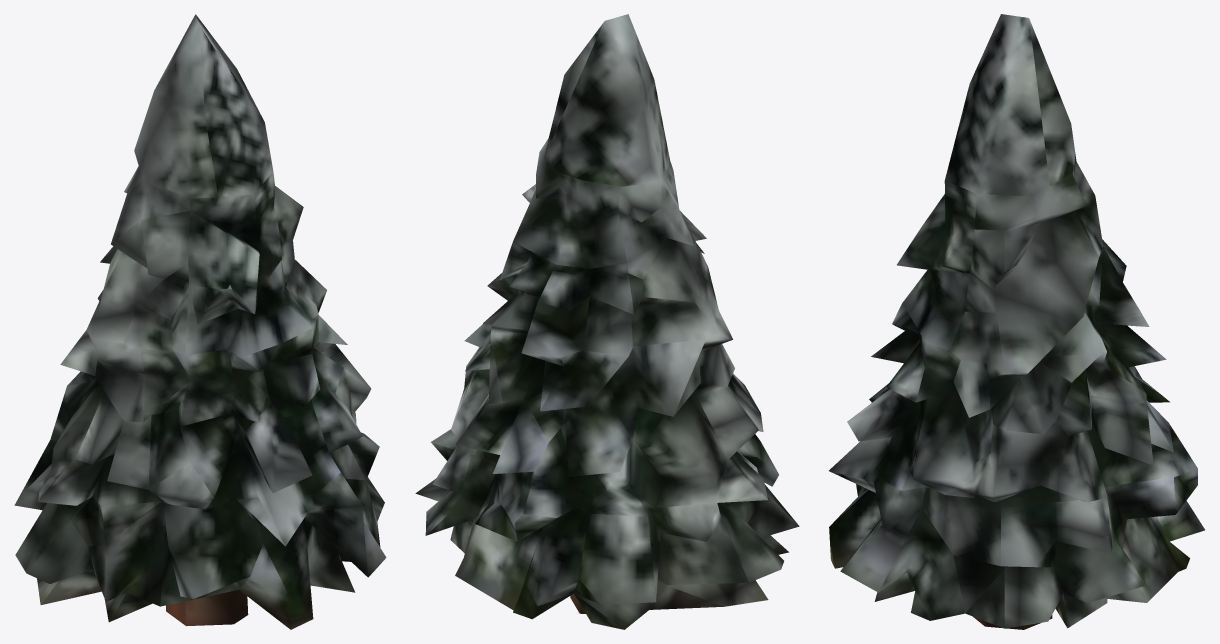
File: dio_pine_s.glb
3 renders of one model, left to right at view 1: azimuth 30°, elevation 25°; view 2: azimuth 150°, elevation 25°; view 3: azimuth 270°, elevation 25°, orthographic.
Parts seen in each view (by area): view 1: tripo_part_7; view 2: tripo_part_7; view 3: tripo_part_7.
Part boxes in pixels (box(x1,y1,x2,y2)): tripo_part_7: box(14, 14, 386, 629); tripo_part_7: box(415, 14, 799, 629); tripo_part_7: box(829, 14, 1204, 629).
Size of the model in its own units: 0.0889 by 0.1426 by 0.0816.
1 material, 1 textured.
